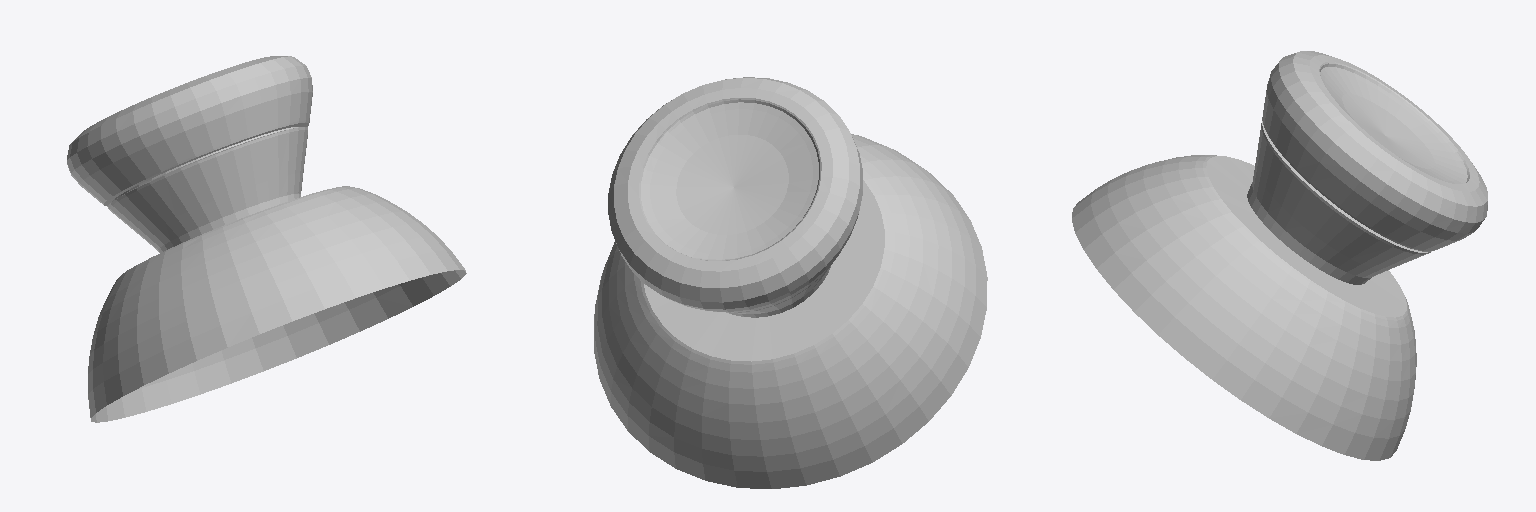
Rendered from R_joystick.obj.
3 renders of one model, left to right at view 1: azimuth 30°, elevation 25°; view 2: azimuth 150°, elevation 25°; view 3: azimuth 270°, elevation 25°, orthographic.
Parts seen in each view (by area): view 1: R_joystick Ctrl_R; view 2: R_joystick Ctrl_R; view 3: R_joystick Ctrl_R.
Boxes of the visible parts, x1=… form: R_joystick Ctrl_R: x1=67, y1=56, x2=466, y2=422; R_joystick Ctrl_R: x1=594, y1=77, x2=987, y2=488; R_joystick Ctrl_R: x1=1072, y1=51, x2=1487, y2=460.
Bounding box in the file's own units: 0.0241 × 0.0242 × 0.0249.